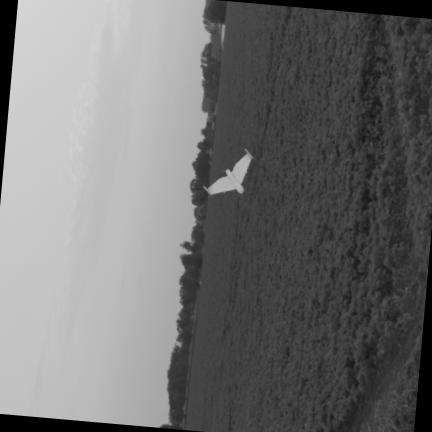Shahed: (204, 150, 252, 194)
